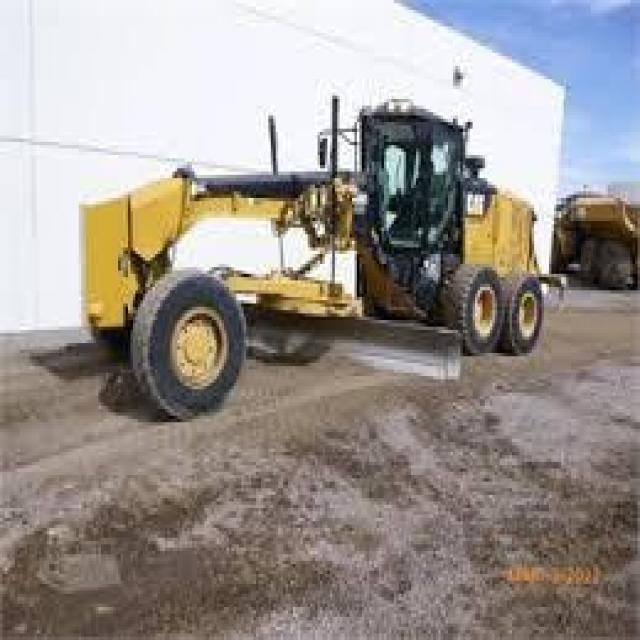Grader: (66, 72, 568, 438)
